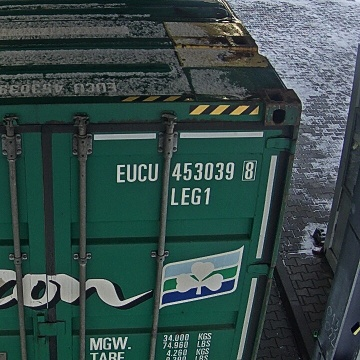serial_id: (117, 162, 253, 182)
